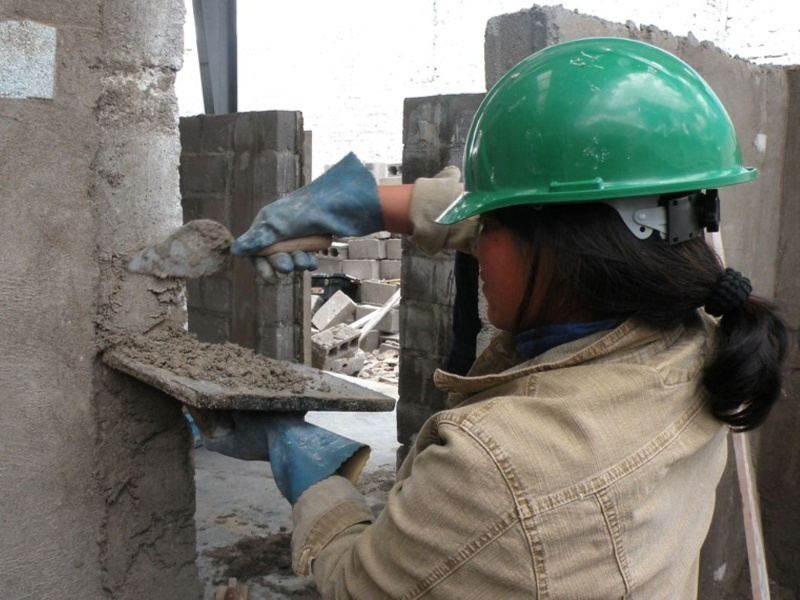casco: (432, 34, 765, 230)
